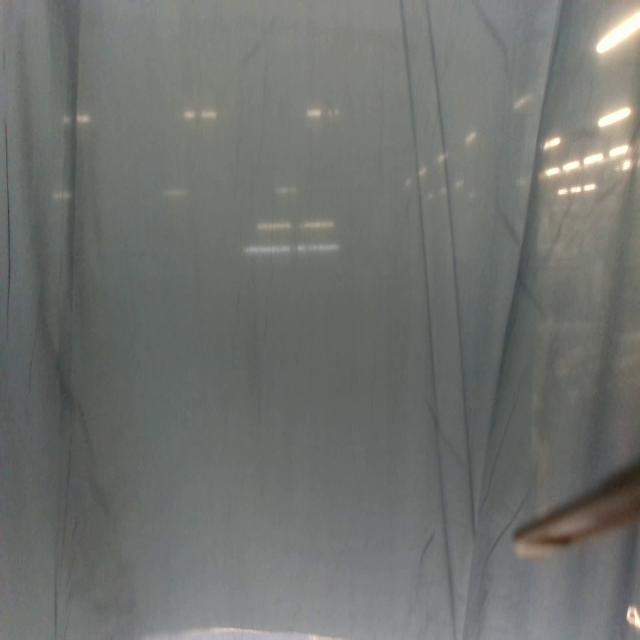crease: (399, 0, 477, 640), (2, 116, 13, 344), (50, 570, 62, 638)
